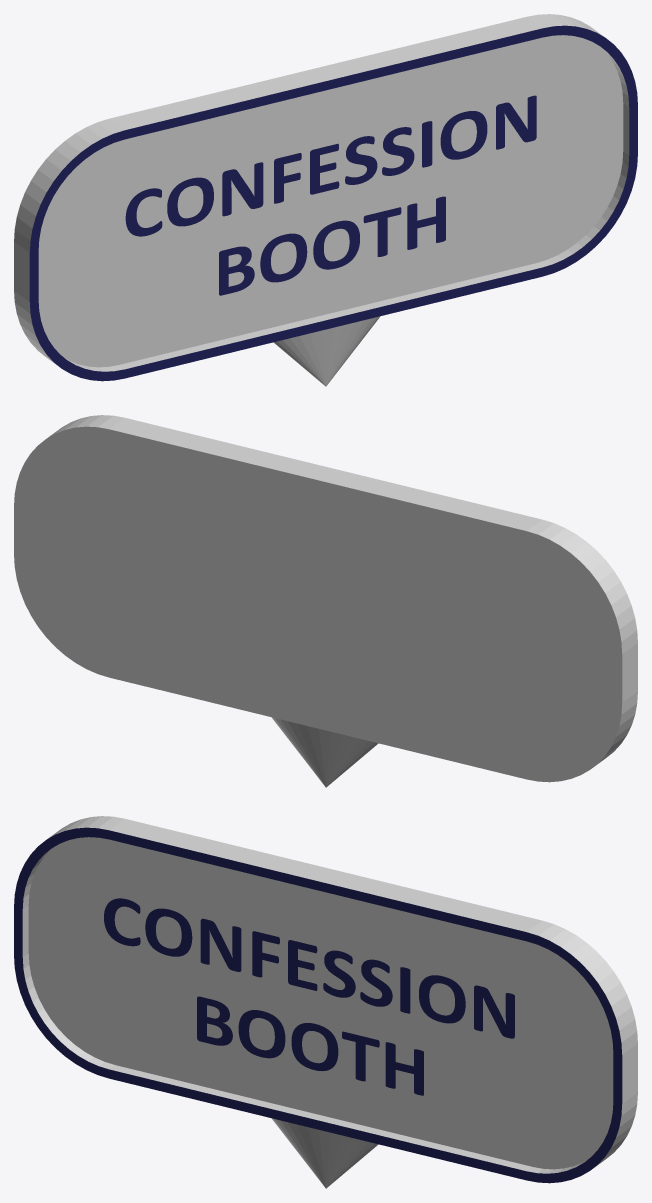
The model's file is ConfessionBoothDefault.glb.
The picture shows the model from 3 angles, top to bottom: view 1: azimuth 30°, elevation 25°; view 2: azimuth 150°, elevation 25°; view 3: azimuth 330°, elevation 25°; orthographic projection.
Visible parts, largest first — view 1: 立方体, 文本, 立方体.001, 立方体.002, 立方体.004; view 2: 立方体, 立方体.003, 立方体.002, 立方体.004; view 3: 立方体, 文本, 立方体.001, 立方体.002, 立方体.004.
Part boxes in pixels (x1,y1,x2,y2): 立方体: [38, 35, 629, 371]; 文本: [125, 95, 536, 295]; 立方体.001: [29, 25, 637, 381]; 立方体.002: [14, 14, 603, 366]; 立方体.004: [273, 316, 380, 386]; 立方体: [21, 434, 614, 774]; 立方体.003: [14, 426, 622, 782]; 立方体.002: [48, 415, 637, 767]; 立方体.004: [271, 717, 378, 787]; 立方体: [22, 837, 613, 1173]; 文本: [104, 898, 514, 1095]; 立方体.001: [14, 827, 622, 1183]; 立方体.002: [48, 816, 637, 1168]; 立方体.004: [271, 1118, 378, 1188].
Size of the model in its own units: 5.13 by 2.52 by 0.2745.
